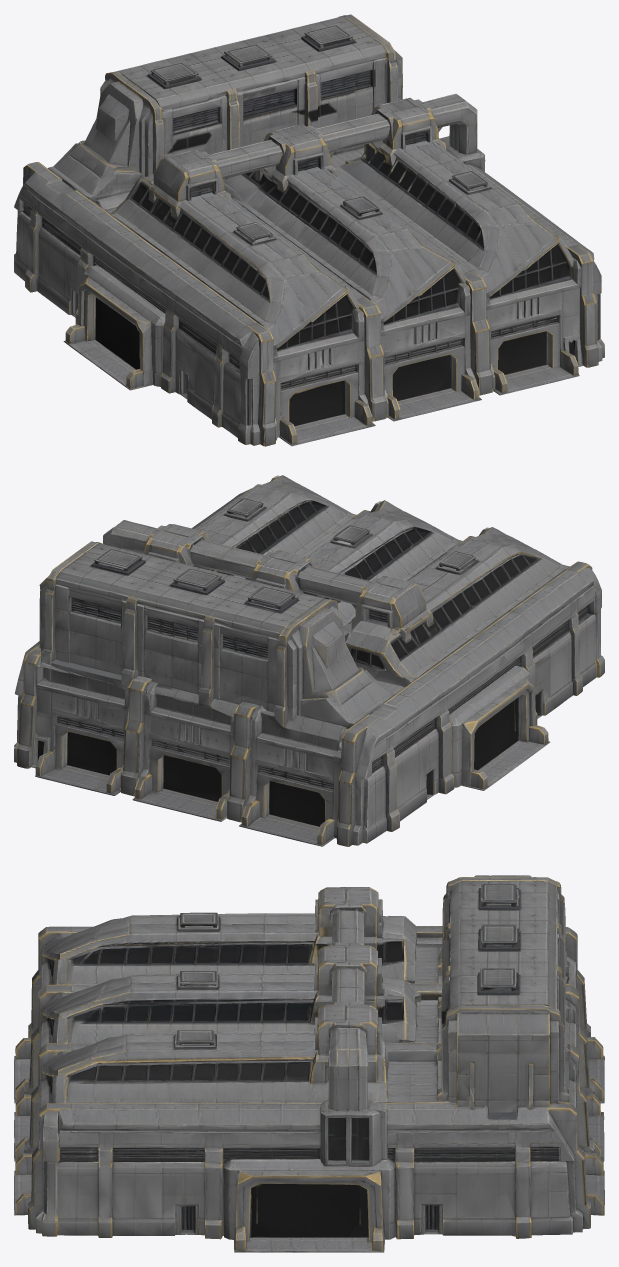
Rendered from imperial_goods_manufactory.glb.
3 renders of one model, top to bottom at view 1: azimuth 30°, elevation 25°; view 2: azimuth 150°, elevation 25°; view 3: azimuth 270°, elevation 25°, orthographic. The views are drawn at different scales.
Visible parts, largest first — view 1: mesh_node; view 2: mesh_node; view 3: mesh_node.
Part boxes in pixels (x1=…): mesh_node: x1=14, y1=14, x2=604, y2=446; mesh_node: x1=14, y1=475, x2=604, y2=846; mesh_node: x1=14, y1=875, x2=604, y2=1252.
Size of the model in its own units: 29.16 by 12.86 by 31.54.
1 material, 1 textured.
